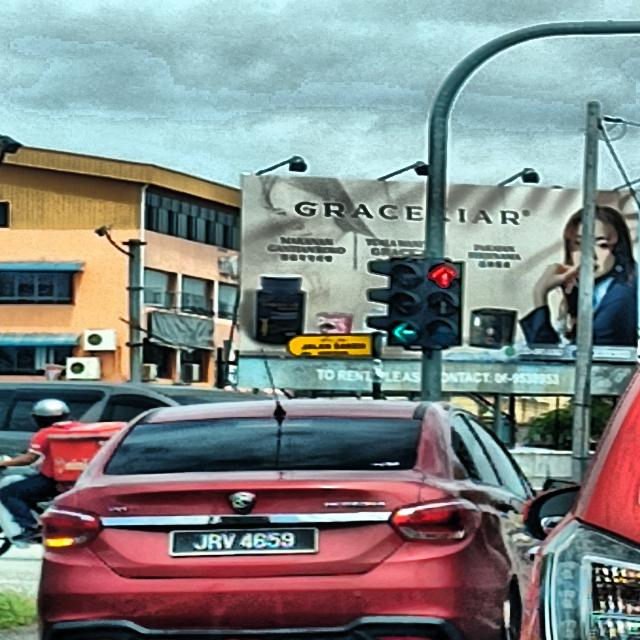green: (387, 259, 427, 346)
red: (426, 261, 466, 347)
